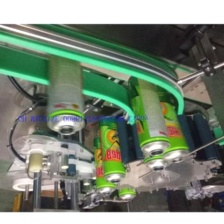aerosol_cans: (123, 73, 171, 158), (43, 47, 86, 137), (150, 77, 192, 166), (137, 83, 171, 173), (95, 112, 128, 187), (91, 120, 119, 197), (116, 144, 137, 204)
